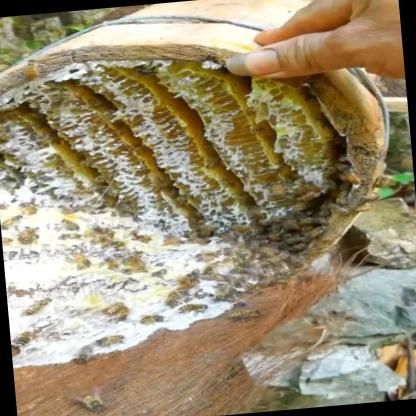bee: (128, 255, 302, 331), (64, 209, 192, 276), (245, 144, 367, 210), (224, 206, 344, 254), (10, 314, 98, 352), (0, 197, 52, 248), (26, 83, 92, 117), (0, 117, 54, 158), (12, 282, 66, 319), (76, 103, 132, 130), (14, 52, 44, 84), (0, 106, 9, 125)
